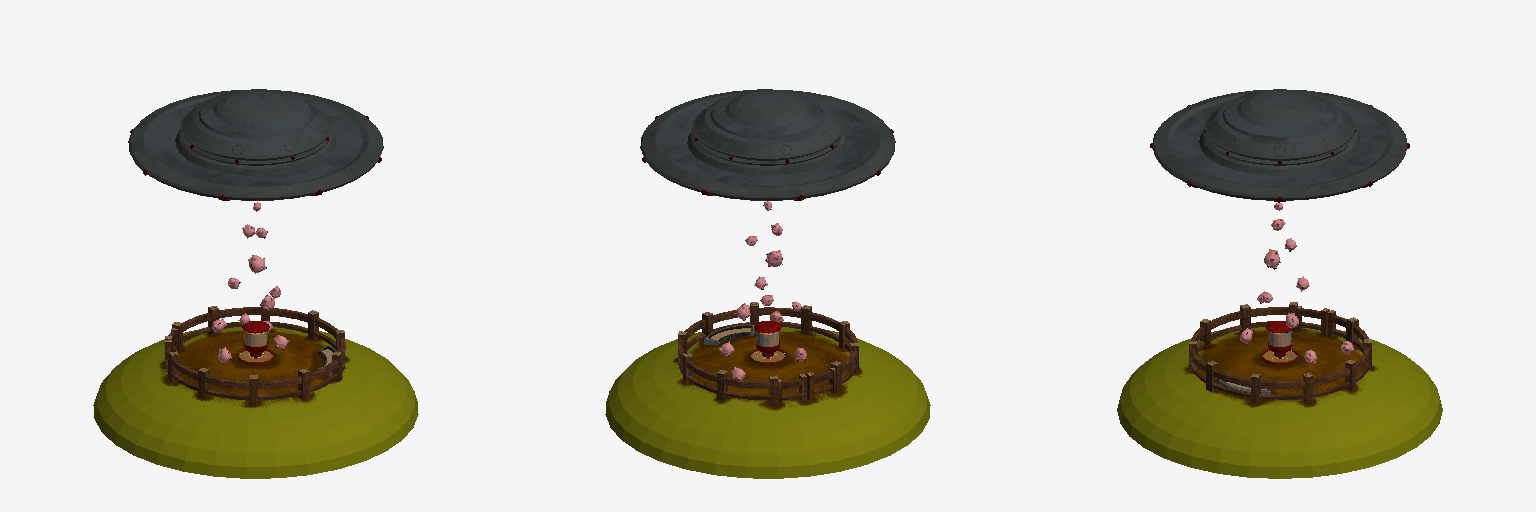
The picture shows the model from 3 angles: view 1: azimuth 30°, elevation 25°; view 2: azimuth 150°, elevation 25°; view 3: azimuth 270°, elevation 25°; orthographic projection.
Visible parts, largest first — view 1: Grass_Grass_0, UFO_UFO_0, Pig_Pig_0; view 2: Grass_Grass_0, UFO_UFO_0, Pig_Pig_0; view 3: Grass_Grass_0, UFO_UFO_0, Pig_Pig_0.
Boxes of the visible parts, box(x1,y1,x2,y2) form: Grass_Grass_0: box(93, 306, 418, 478); UFO_UFO_0: box(128, 89, 383, 346); Pig_Pig_0: box(211, 202, 336, 375); Grass_Grass_0: box(605, 302, 930, 478); UFO_UFO_0: box(640, 89, 895, 346); Pig_Pig_0: box(704, 201, 806, 379); Grass_Grass_0: box(1117, 302, 1442, 478); UFO_UFO_0: box(1150, 89, 1409, 346); Pig_Pig_0: box(1219, 202, 1354, 394).
Bounding box in the file's own units: 121 × 126 × 121.
4 materials, 4 textured.